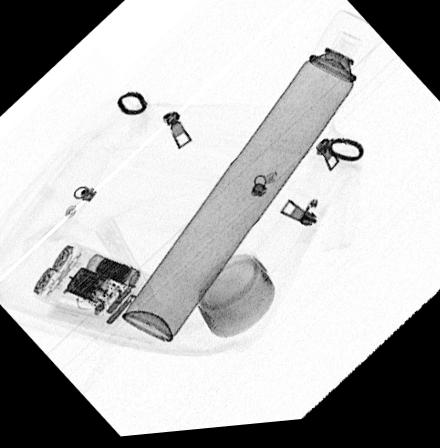Sprayer: (122, 15, 382, 346)
